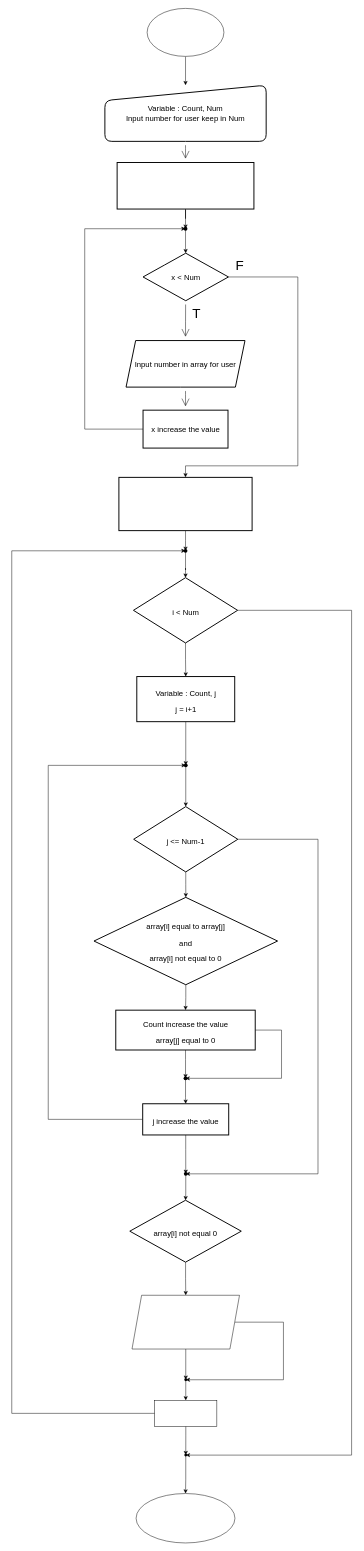
This 364x1551 diagram has some shape labels left out. Each missing label, with the centre of its shape:
"i increase the value" belongs at (185,1413).
"Output array[i] and Count" belongs at (186,1322).
"Start" belongs at (185,32).
"Stop" belongs at (185,1518).
"Variable : i i = 0" belongs at (185,504).
"Variable : x, array [ Num ] x = 0" belongs at (185,185).
